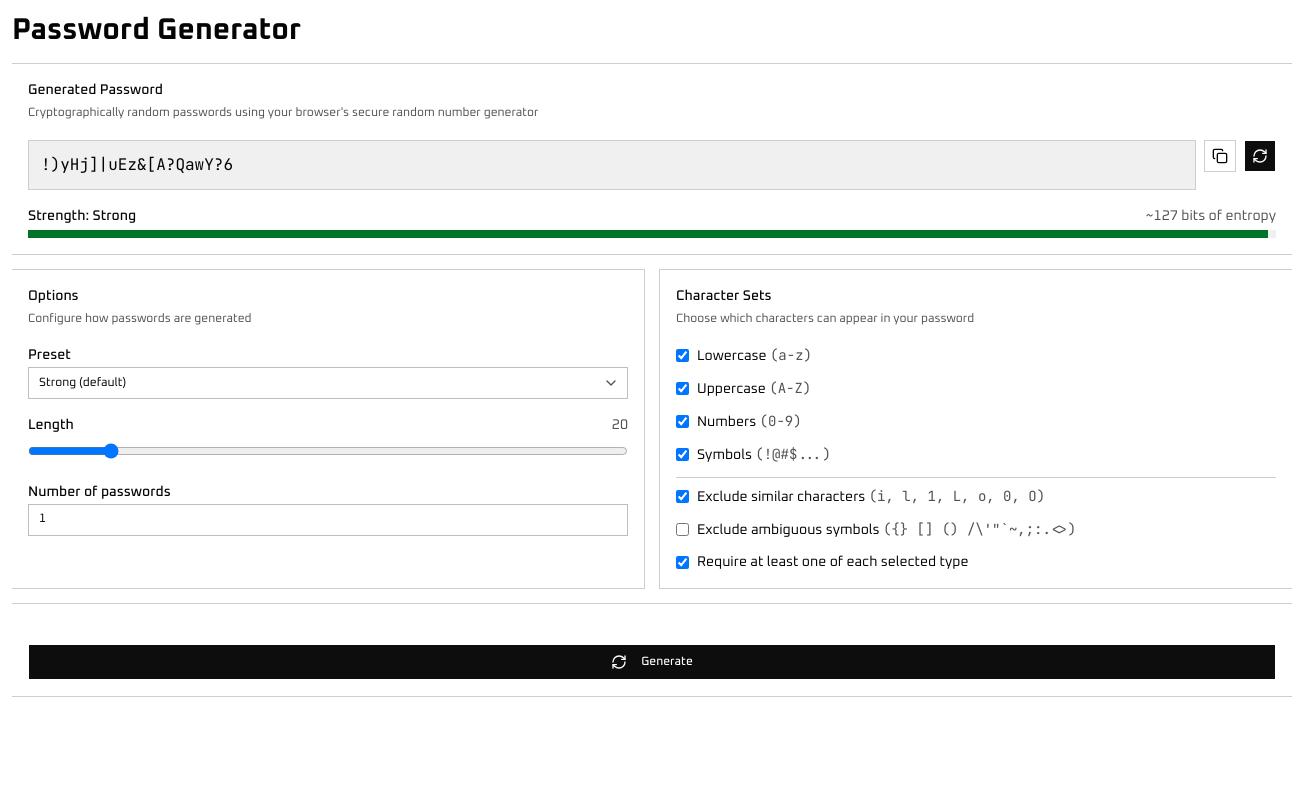
Test case: PasswordGeneratorPage › generates multiple passwords when count is increased
Replace the text in the number field labelled "Number of passwords" with "5" at (328, 520), box [28,504,628,536]
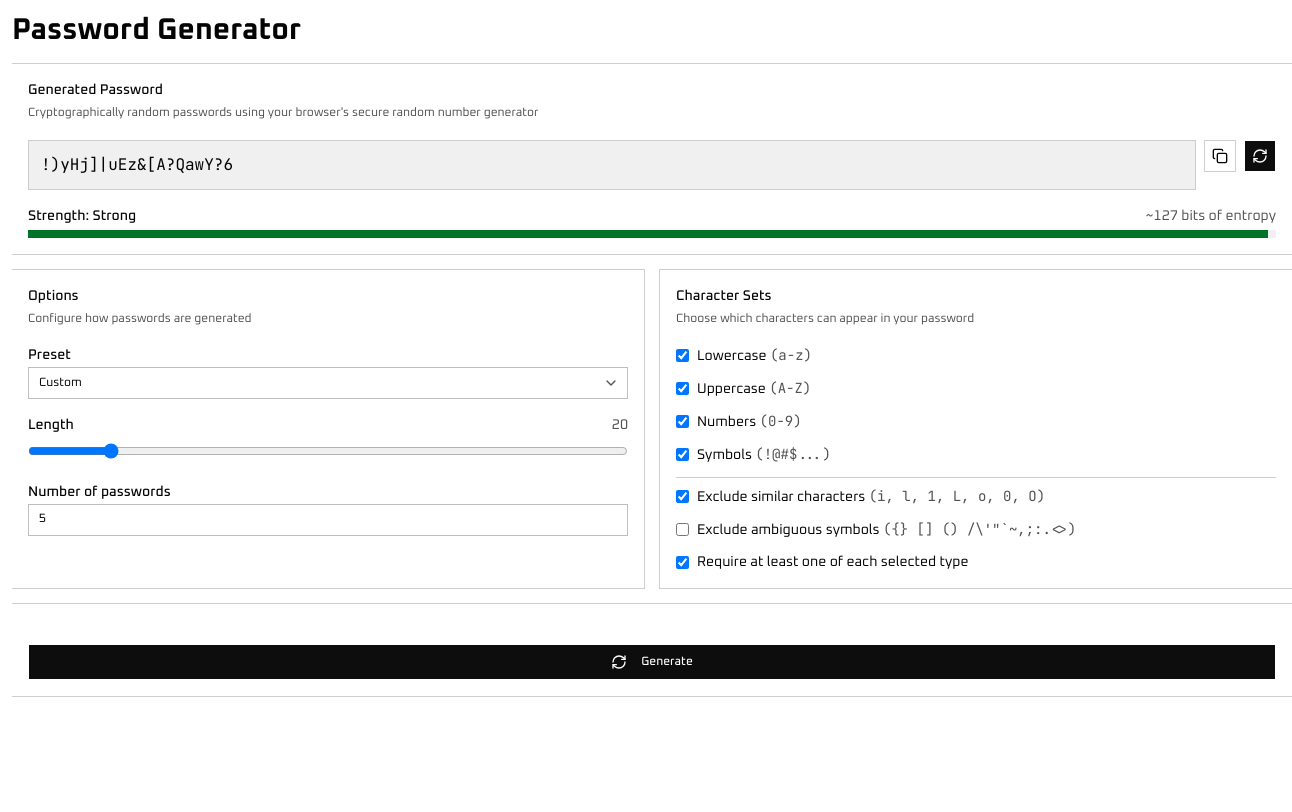
Click the button "Generate" at (652, 662), box [28,644,1276,680]
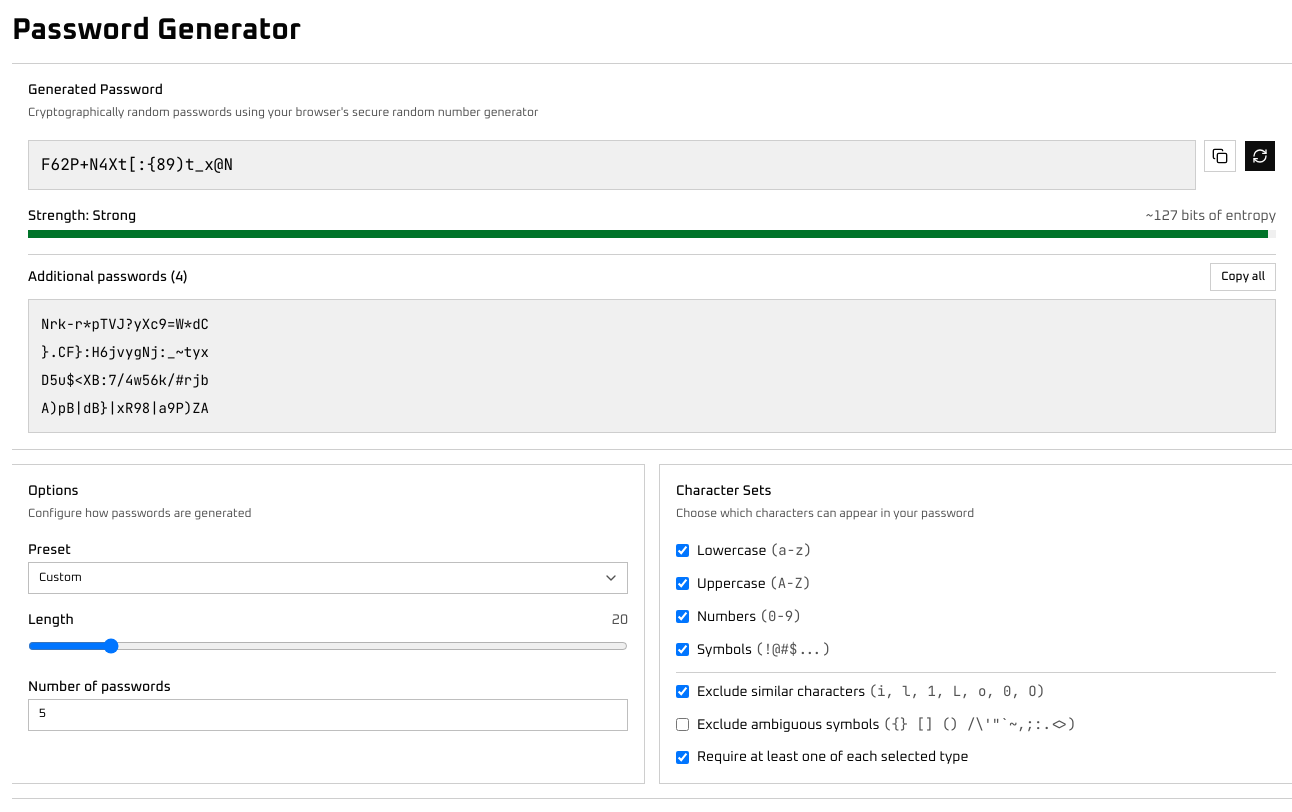
Expected: the text "Additional passwords (4)" is shown, [28,266,188,286]
